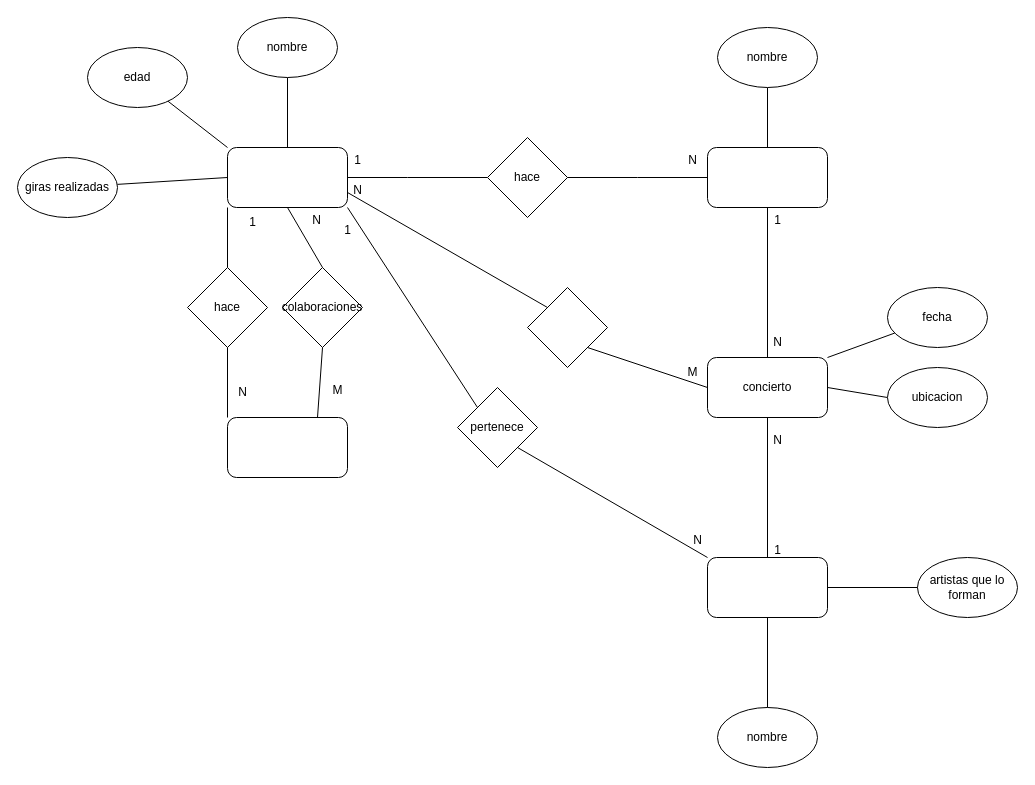
The diagram is 1035 pixels wide and 785 high, and some of its shapes have lost their labels. Here are the shapes that lost their labels. From the top down, the centre of each, then its label:
At (x=287, y=177): "artista".
At (x=767, y=177): "gira".
At (x=567, y=327): "hacen".
At (x=287, y=447): "cancion".
At (x=767, y=587): "grupo".
